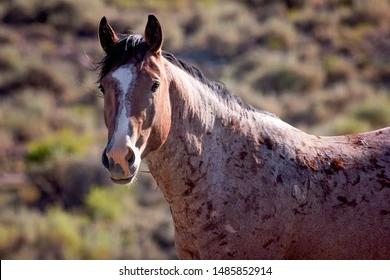infection: (177, 117, 389, 249)
